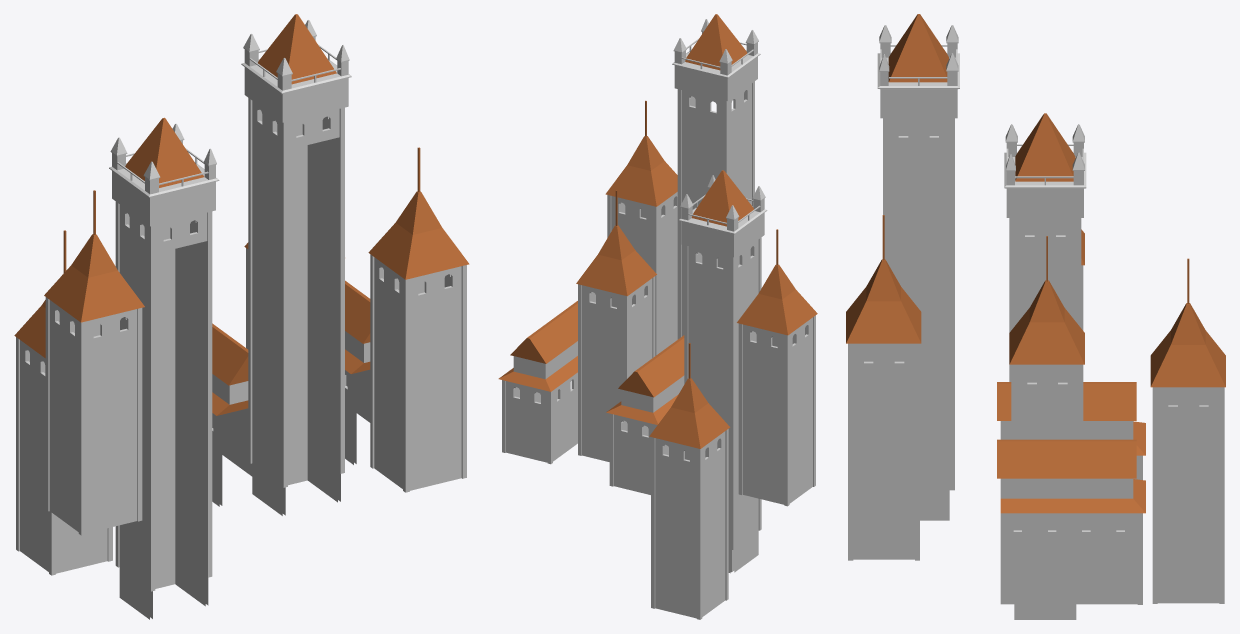
Rendered from Castle 1.fbx.
3 renders of one model, left to right at view 1: azimuth 30°, elevation 25°; view 2: azimuth 150°, elevation 25°; view 3: azimuth 270°, elevation 25°, orthographic. The views are drawn at different scales.
Parts seen in each view (by area): view 1: Cube.572; view 2: Cube.572; view 3: Cube.572.
Boxes of the visible parts, x1=… form: Cube.572: x1=14, y1=14, x2=469, y2=619; Cube.572: x1=498, y1=14, x2=817, y2=619; Cube.572: x1=846, y1=14, x2=1225, y2=619.
Bounding box in the file's own units: 11358 × 20140 × 11081.
